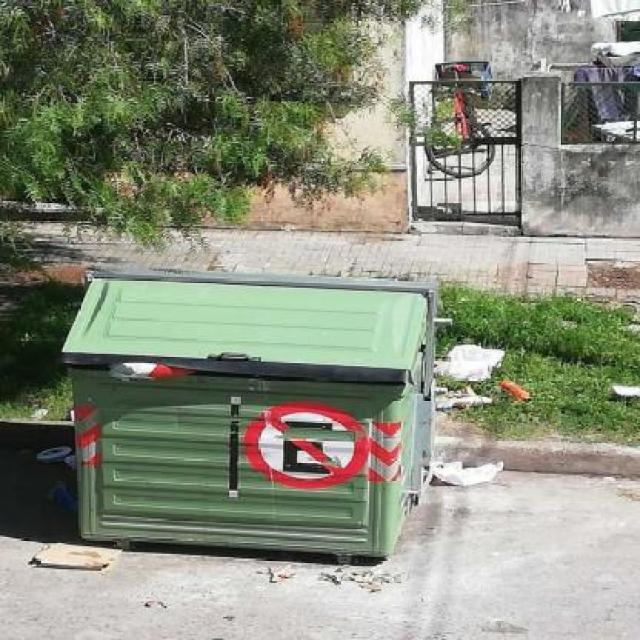garbage: (426, 320, 520, 502), (557, 308, 640, 420), (5, 428, 84, 544), (16, 539, 130, 590), (0, 252, 88, 305)
